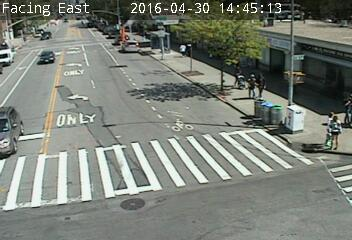neg: (41, 69, 70, 109), (70, 105, 98, 143), (120, 144, 148, 182)
pos: (256, 71, 275, 98), (239, 71, 258, 96)
